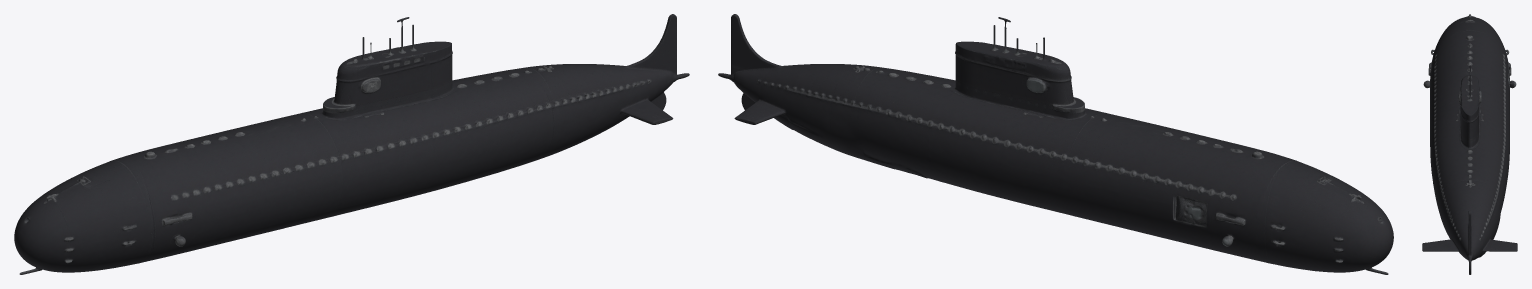
File: knight_black.glb
The picture shows the model from 3 angles, left to right: view 1: azimuth 30°, elevation 25°; view 2: azimuth 150°, elevation 25°; view 3: azimuth 270°, elevation 25°; orthographic projection. The views are drawn at different scales.
Parts seen in each view (by area): view 1: mesh_node; view 2: mesh_node; view 3: mesh_node.
Boxes of the visible parts, left/top/right/bottom form: mesh_node: left=14, top=14, right=689, bottom=274; mesh_node: left=718, top=14, right=1393, bottom=274; mesh_node: left=1422, top=14, right=1517, bottom=274.
Bounding box in the file's own units: 1.9 × 0.4757 × 0.3259.
1 material, 1 textured.
